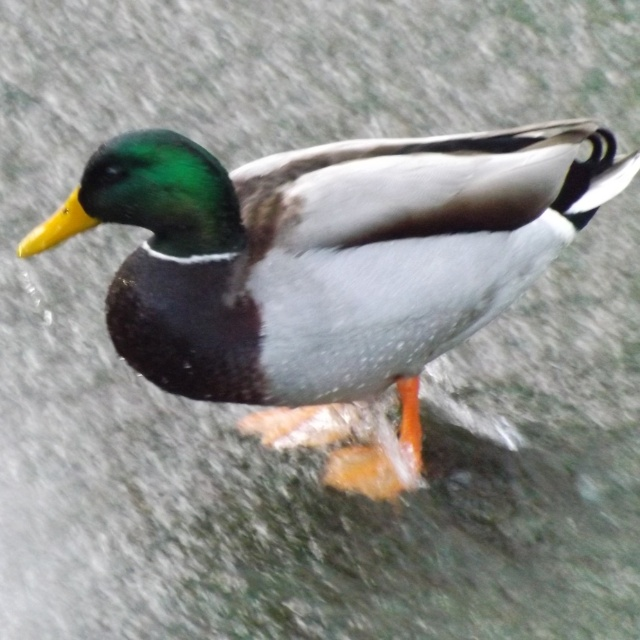Duck: (0, 108, 639, 498)
